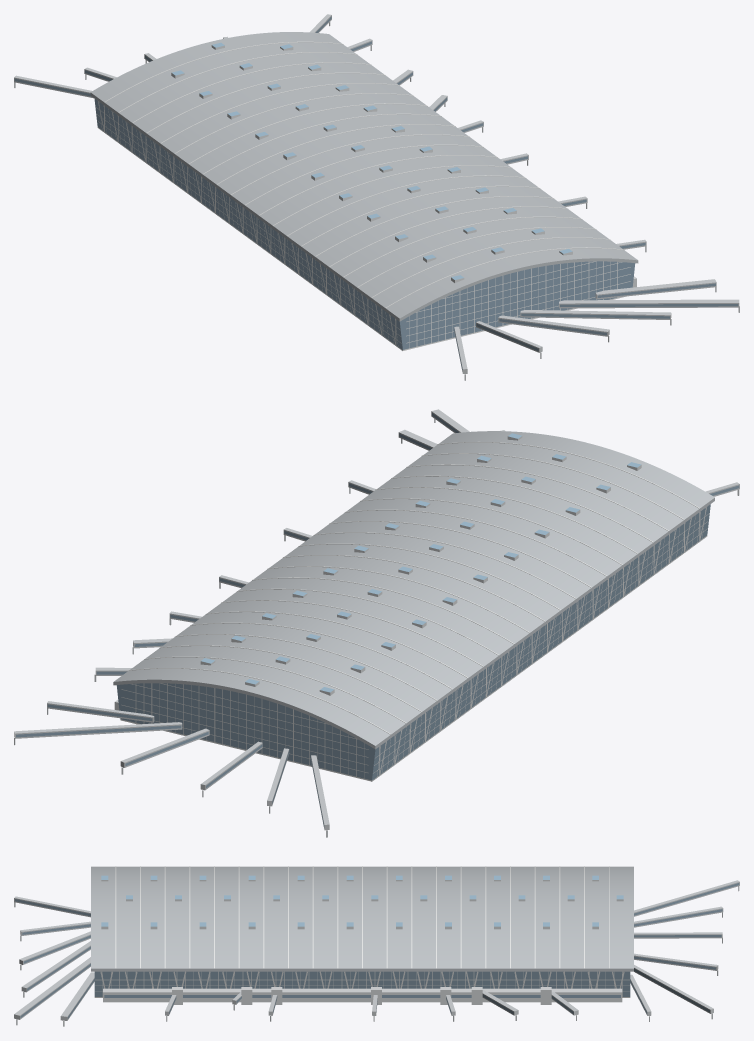
Rendered from london-heathrow-terminal-5.detail.glb.
3 views of the same model, one above another, from view 1: azimuth 30°, elevation 25°; view 2: azimuth 150°, elevation 25°; view 3: azimuth 270°, elevation 25° (orthographic). The views are drawn at different scales.
Visible parts, largest first — view 1: Heathrow Terminal 5; view 2: Heathrow Terminal 5; view 3: Heathrow Terminal 5.
Part boxes in pixels (x1,y1,x2,y2): Heathrow Terminal 5: (14,14,739,380); Heathrow Terminal 5: (14,409,739,837); Heathrow Terminal 5: (14,866,739,1026).
Size of the model in its own units: 235 by 41.6 by 528.
